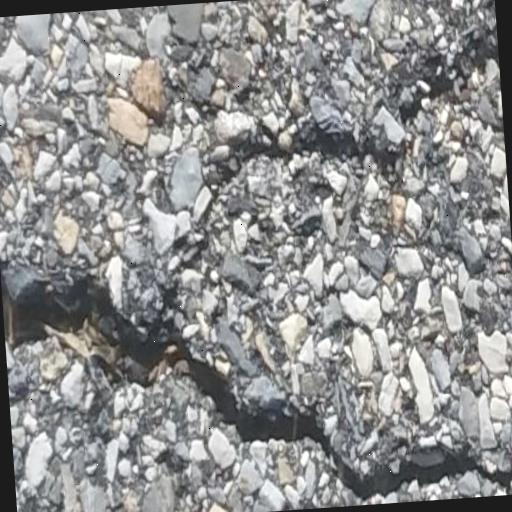spalling: (1, 266, 510, 503)
